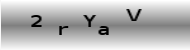2: (29, 13, 42, 27)
V: (125, 8, 143, 22)
Y: (82, 13, 97, 27)
a: (97, 25, 110, 36)
r: (56, 24, 69, 36)
